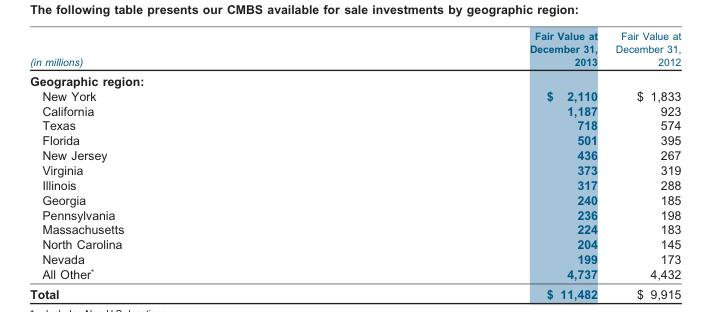table: (29, 29, 680, 280)
table column: (29, 29, 326, 280), (326, 29, 605, 280), (605, 29, 680, 280)
table column header: (29, 29, 680, 70)
table projected row header: (29, 70, 680, 87)
table row: (29, 29, 680, 70), (29, 70, 680, 87), (29, 87, 680, 102), (29, 102, 680, 117), (29, 117, 680, 132), (29, 132, 680, 147), (29, 147, 680, 162), (29, 162, 680, 177), (29, 191, 680, 206), (29, 206, 680, 221), (29, 221, 680, 236), (29, 236, 680, 251), (29, 251, 680, 266), (29, 177, 680, 191), (29, 266, 680, 280)
